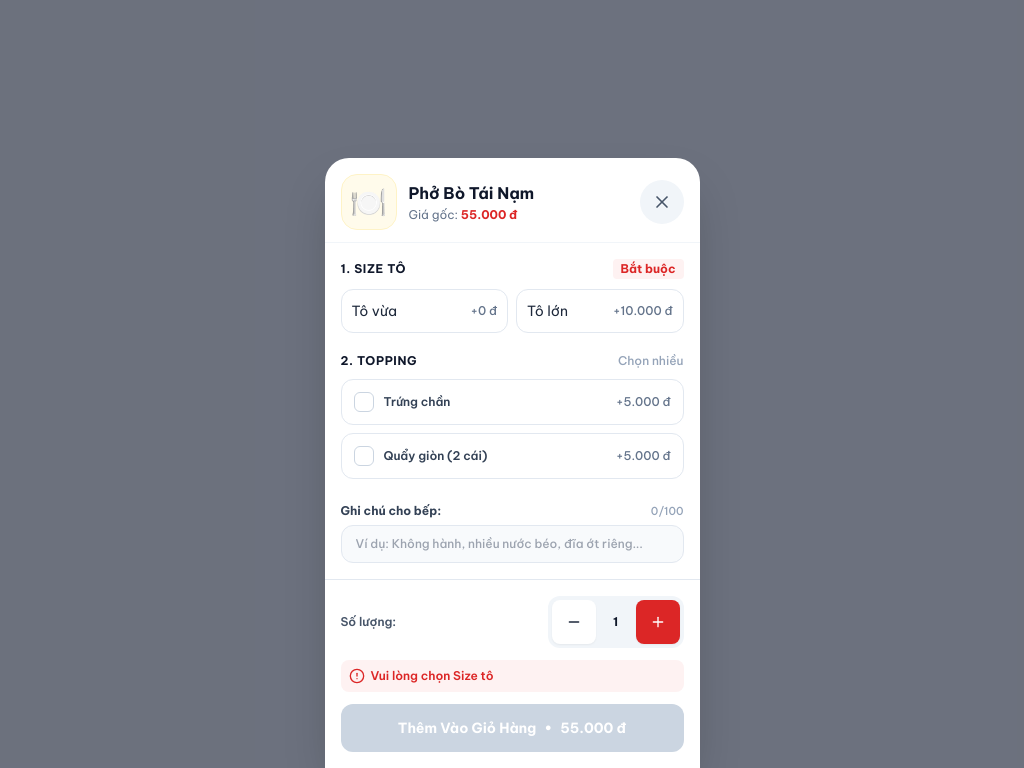
ProductSheet Component (C3) › updates price dynamically when options and quantity change
Click the button with test id "option-item-2" at (600, 310), box x1=516 y1=288 x2=684 y2=332
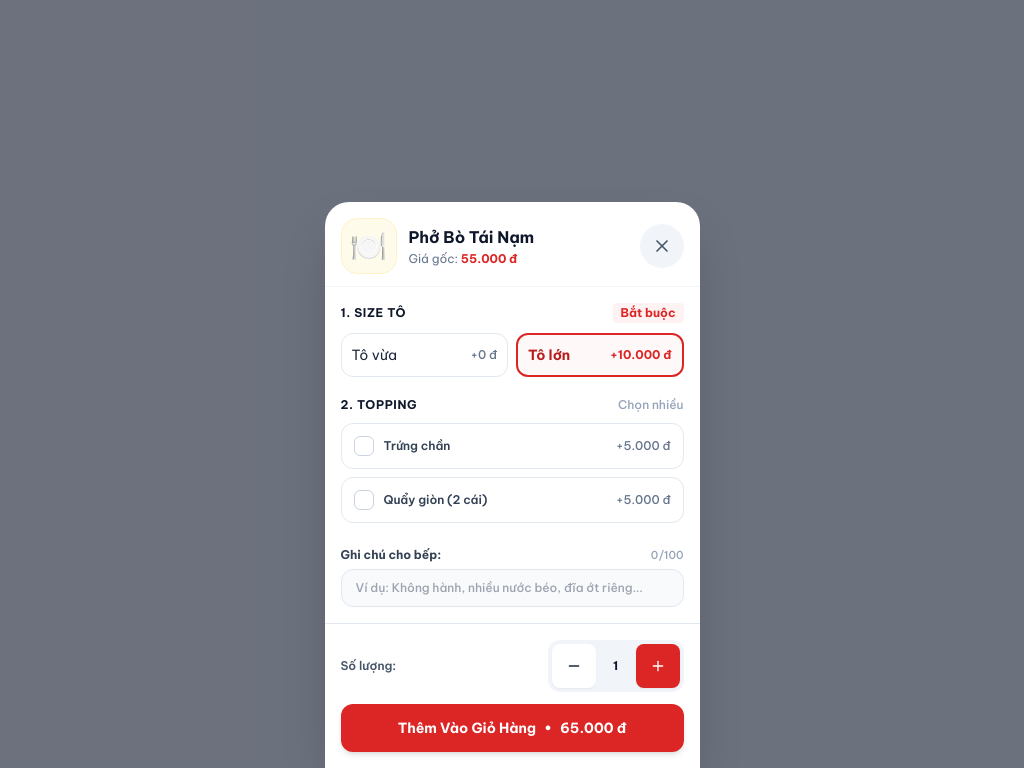
Expected: the element with test id "validation-error-message" is gone
Expected: the button with test id "add-to-cart-submit-btn" is enabled, x1=340 y1=704 x2=684 y2=752
Expected: the text with test id "total-price-display" reads "65.000 đ", x1=560 y1=719 x2=626 y2=737
Click the button with test id "option-item-13" at (417, 445), box x1=340 y1=422 x2=684 y2=468
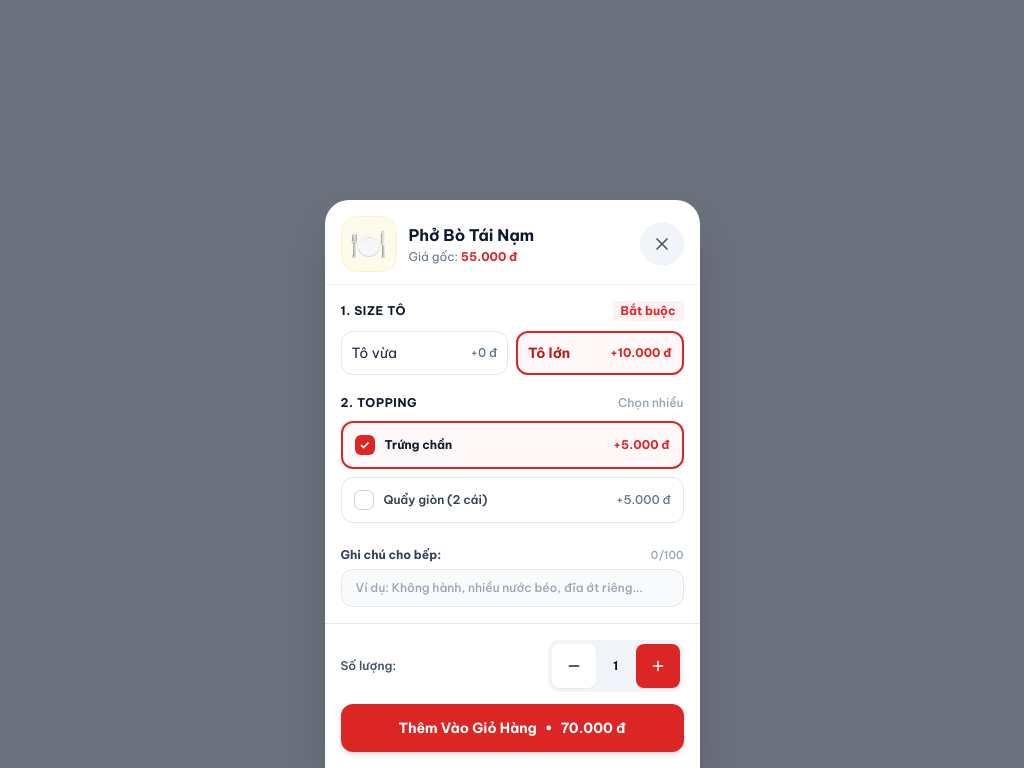
Expected: the text with test id "total-price-display" reads "70.000 đ", x1=561 y1=719 x2=626 y2=737
# Stepper +
Click the button named "Tăng số lượng" at (658, 666), box x1=636 y1=644 x2=680 y2=688
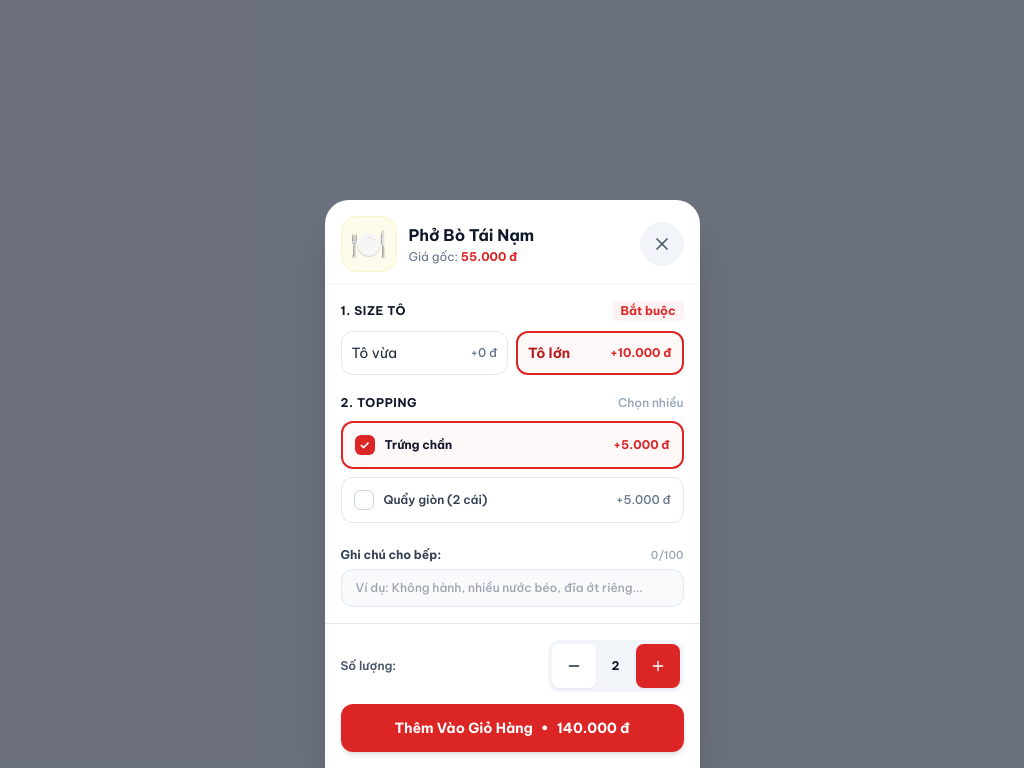
Expected: the text with test id "quantity-display" reads "2", x1=612 y1=658 x2=620 y2=673
Expected: the text with test id "total-price-display" reads "140.000 đ", x1=557 y1=719 x2=630 y2=737
